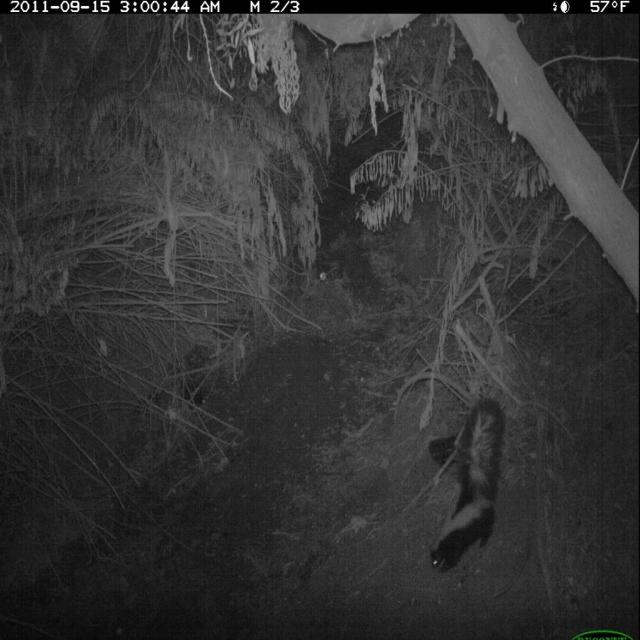skunk: (426, 392, 509, 576)
